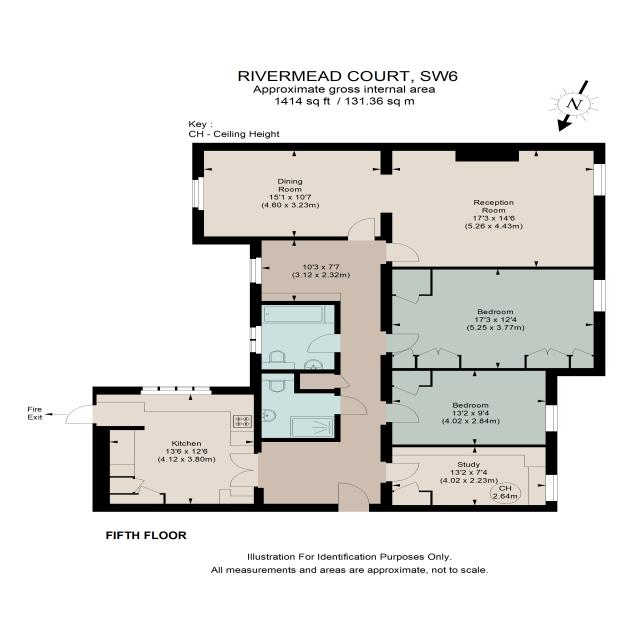DOOR: (336, 481, 371, 512), (380, 400, 421, 426), (380, 330, 420, 356), (380, 461, 420, 483), (346, 217, 376, 240), (386, 242, 420, 262), (307, 333, 341, 353), (334, 395, 368, 415), (65, 404, 97, 424)
DOUBLE DOOR: (227, 452, 265, 490)
ROOM: (192, 141, 606, 269), (65, 386, 264, 512), (380, 266, 606, 376), (380, 368, 557, 447), (380, 445, 558, 512)
WINDOW: (140, 386, 213, 395), (593, 163, 606, 197), (593, 279, 606, 312), (192, 177, 204, 211), (249, 325, 262, 354), (545, 474, 558, 502), (545, 404, 558, 432), (249, 257, 262, 285)
